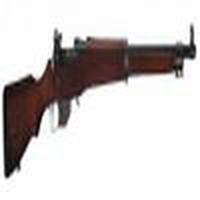gun: (1, 34, 197, 178)
